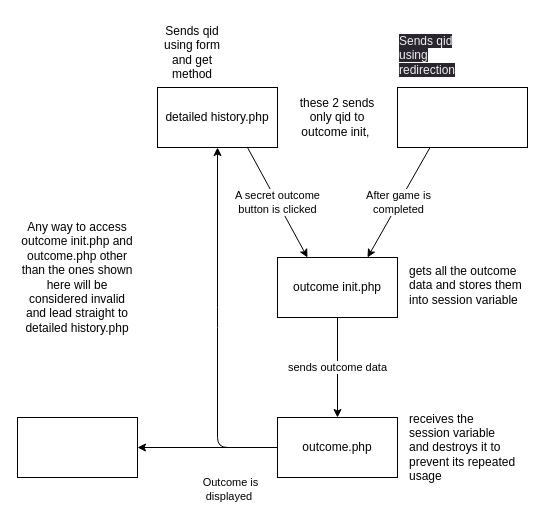
This 560x519 diagram has some shape labels left out. The shapes that lost their labels are listed below. From the top down, each one's centre as x and y in pixels, then its label:
At (x=462, y=117): "game processing.php".
At (x=77, y=447): "profile".
